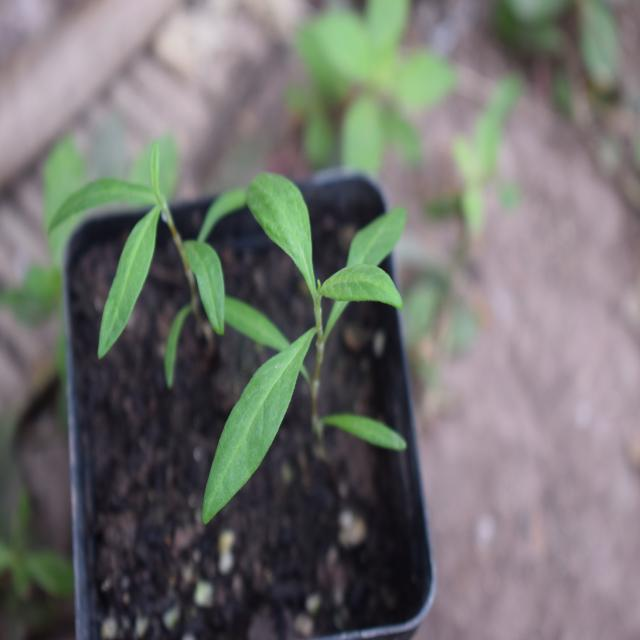white_smart_weed: (216, 159, 434, 539), (39, 109, 240, 367)
